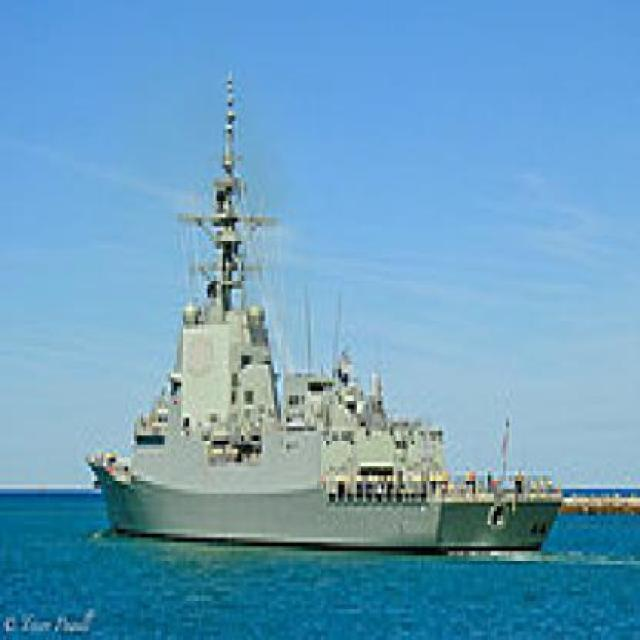warship2: (65, 1, 571, 570)
